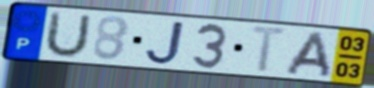3: (190, 22, 230, 71)
8: (91, 15, 133, 64)
A: (282, 29, 334, 79)
J: (142, 19, 188, 66)
T: (248, 24, 292, 75)
U: (41, 9, 94, 60)
